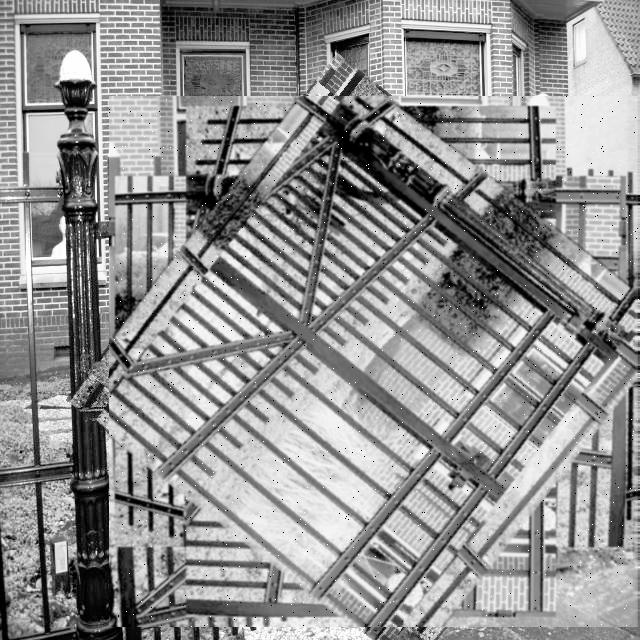fences: (110, 96, 640, 627)
